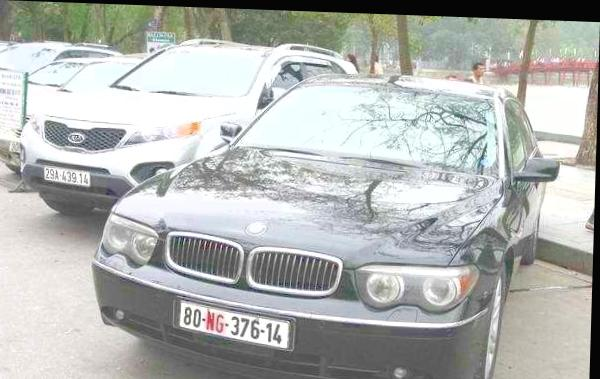License_Plate: (174, 295, 293, 354), (39, 162, 91, 191)
